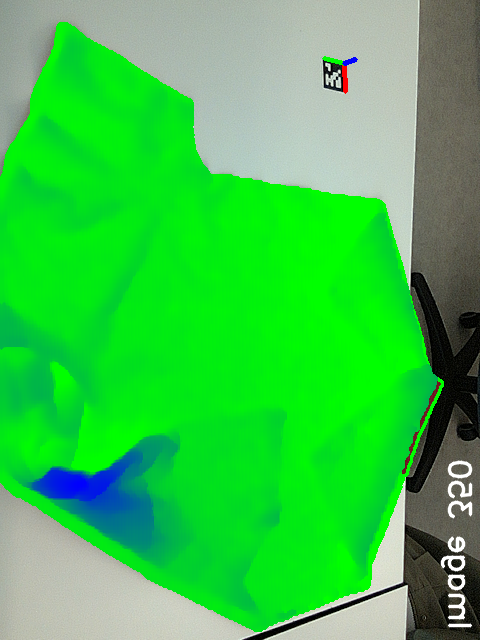V: (303, 434, 357, 487), (309, 262, 354, 311), (253, 393, 299, 439)
